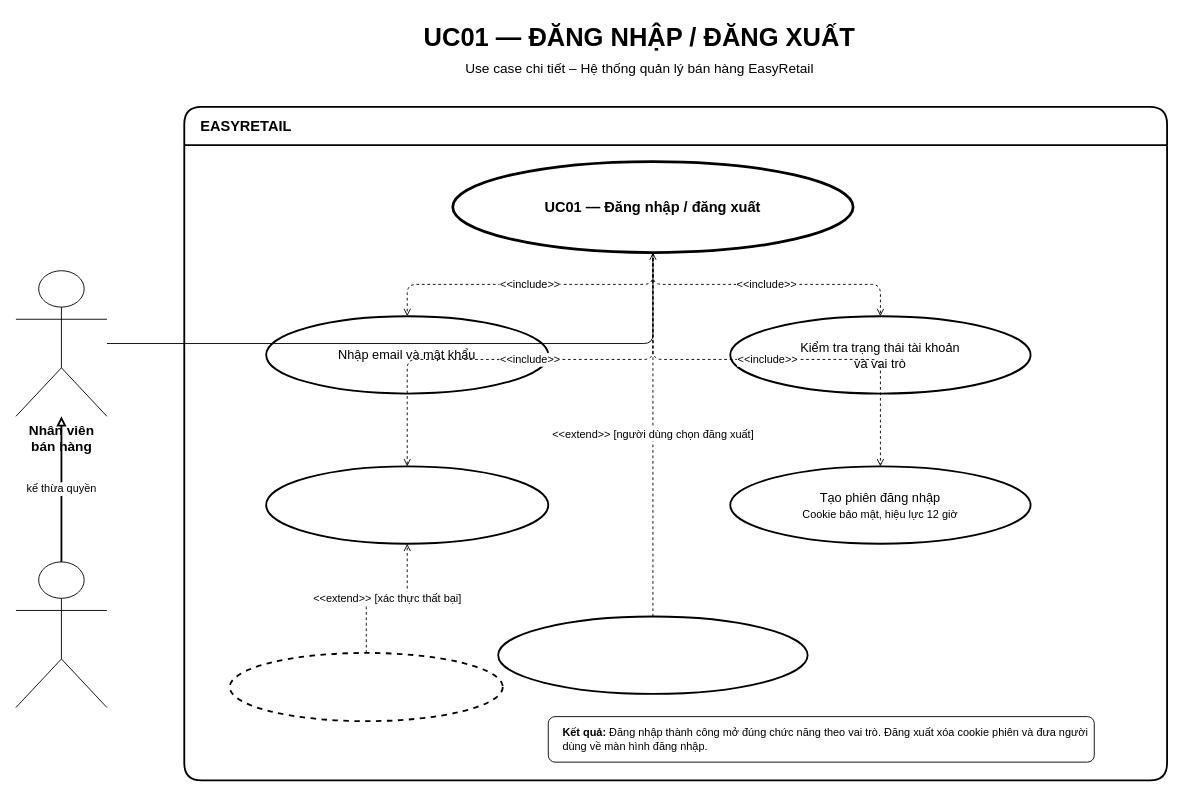
This 1184x796 diagram has some shape labels left out. Each missing label, with the centre of its shape:
"Quản trị viên / Chủ điểm bán" belongs at point (61, 634).
"Thông báo email hoặc mật khẩu không đúng / tài khoản bị khóa" belongs at point (365, 687).
"Xác thực thông tin đăng nhập So khớp mật khẩu đã băm" belongs at point (407, 504).
"Xóa phiên và đăng xuất" belongs at point (652, 654).
